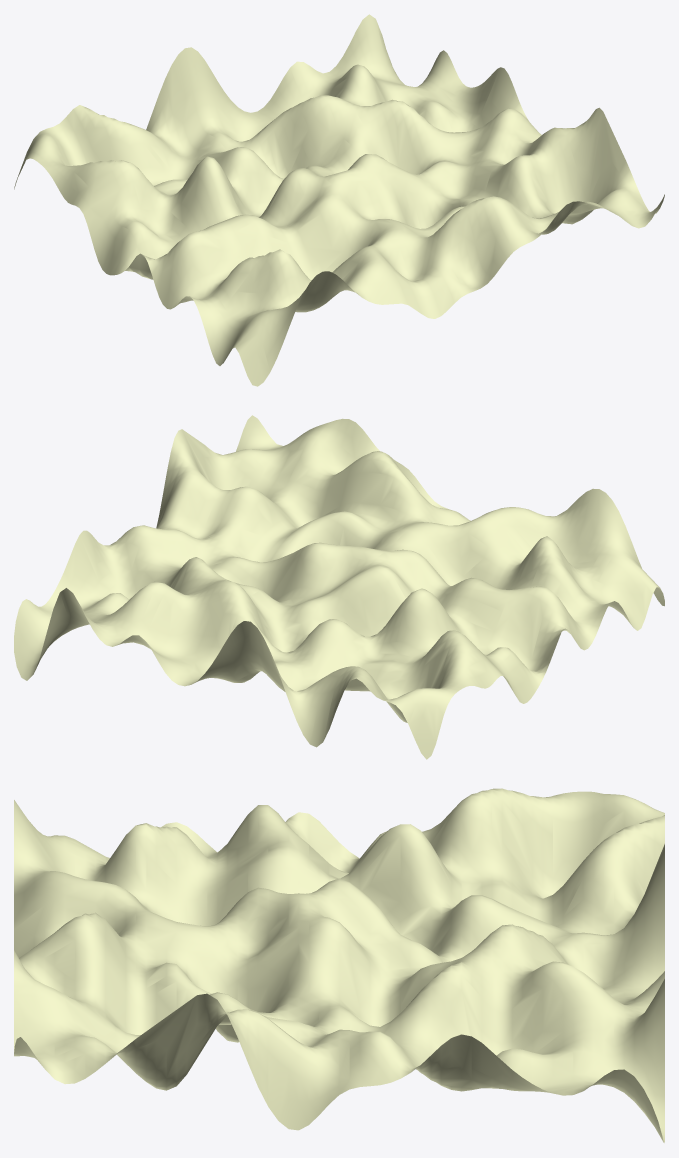
The model's file is Seabed.glb.
3 renders of one model, top to bottom at view 1: azimuth 30°, elevation 25°; view 2: azimuth 150°, elevation 25°; view 3: azimuth 270°, elevation 25°, orthographic. The views are drawn at different scales.
Parts seen in each view (by area): view 1: Plane; view 2: Plane; view 3: Plane.
Part boxes in pixels (x1=…): Plane: x1=14, y1=14, x2=664, y2=386; Plane: x1=14, y1=415, x2=664, y2=759; Plane: x1=14, y1=788, x2=664, y2=1142.
Bounding box in the file's own units: 200 × 57.36 × 200.
